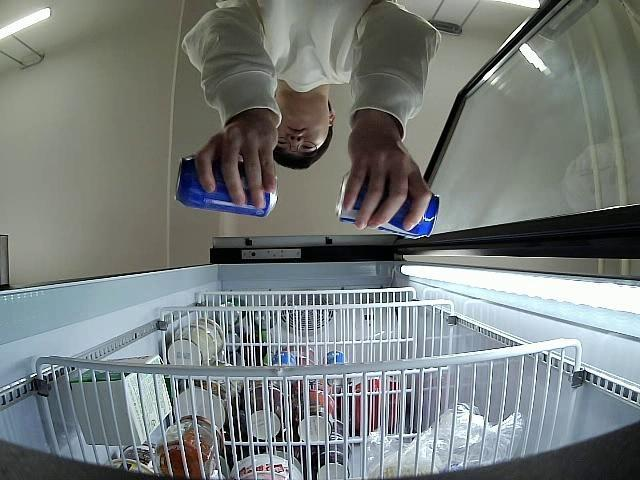13_pocariSweat: (335, 173, 440, 240), (172, 154, 278, 220)
